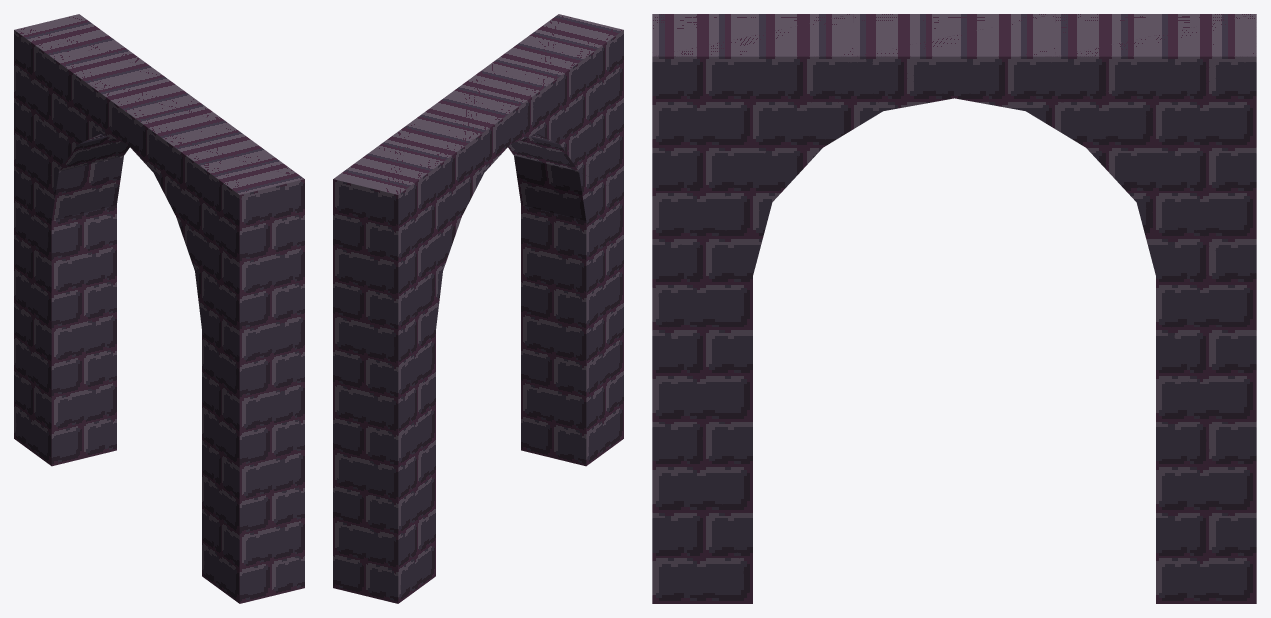
File: doorframe.fbx
The picture shows the model from 3 angles, left to right: view 1: azimuth 30°, elevation 25°; view 2: azimuth 150°, elevation 25°; view 3: azimuth 270°, elevation 25°; orthographic projection. The views are drawn at different scales.
Visible parts, largest first — view 1: Doorframe; view 2: Doorframe; view 3: Doorframe.
Boxes of the visible parts, <box> form: Doorframe: <box>14,14,304,603</box>; Doorframe: <box>333,14,623,603</box>; Doorframe: <box>652,14,1256,603</box>.
Bounding box in the file's own units: 50 × 300 × 300.
1 material, 1 textured.
